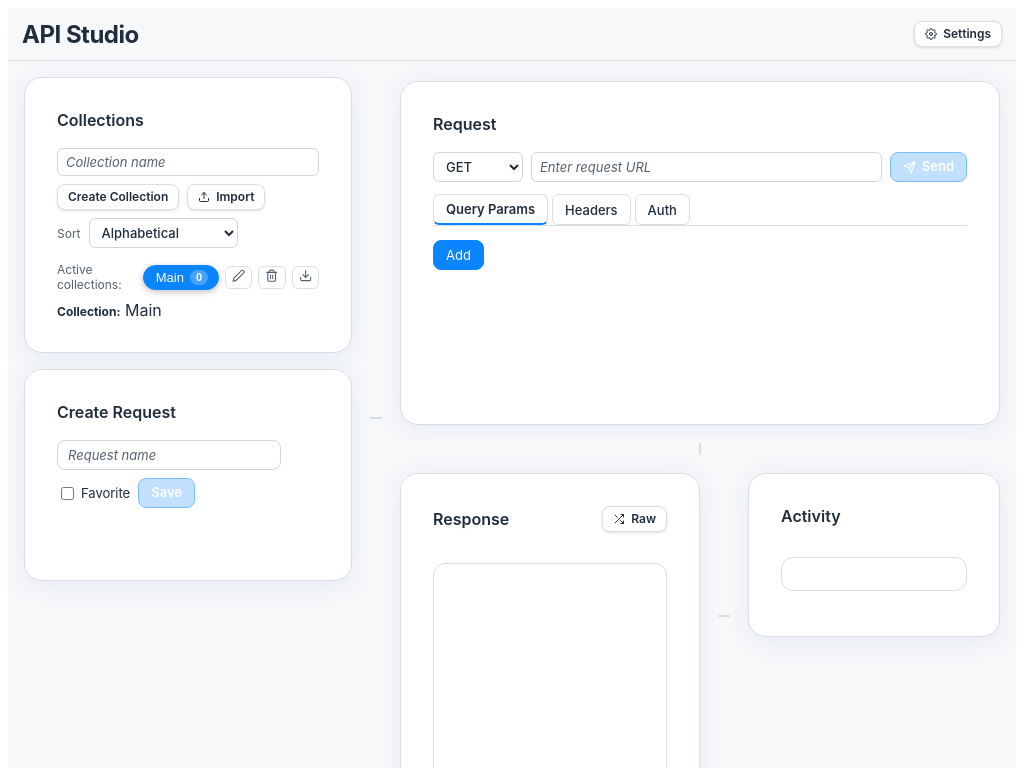
Theme settings › opens settings panel when gear clicked
The image size is (1024, 768).
Click the button titled "Settings": (958, 34) [914,21,1002,47]
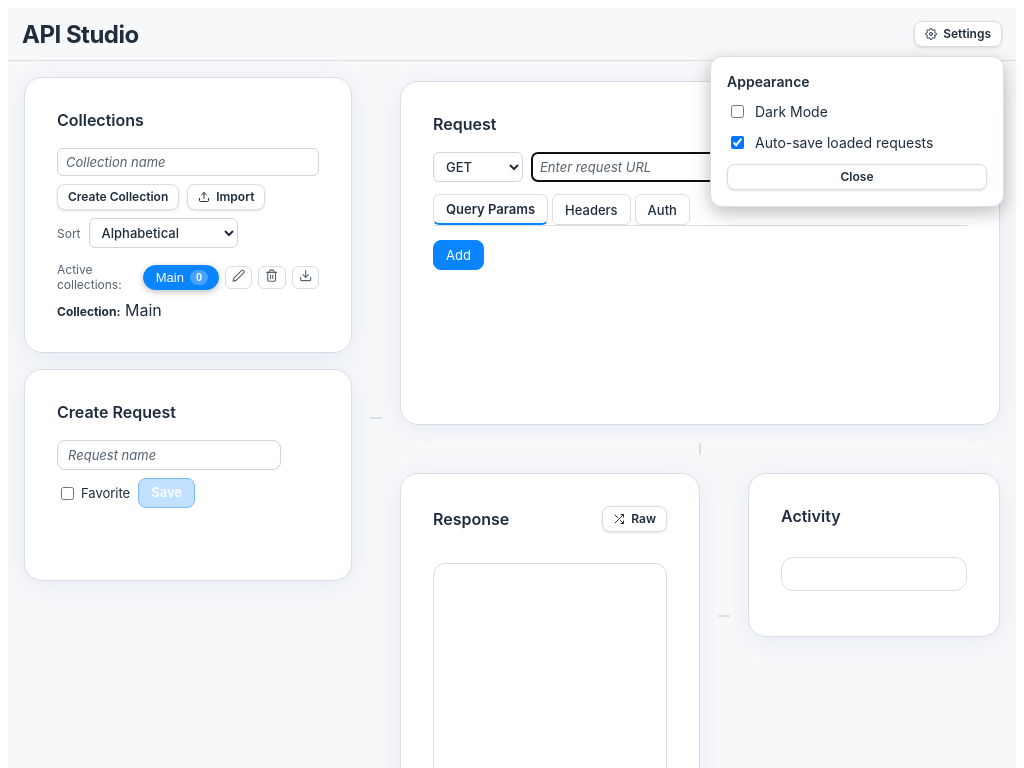
Expected: the text "Appearance" is shown, [727,73,810,90]
